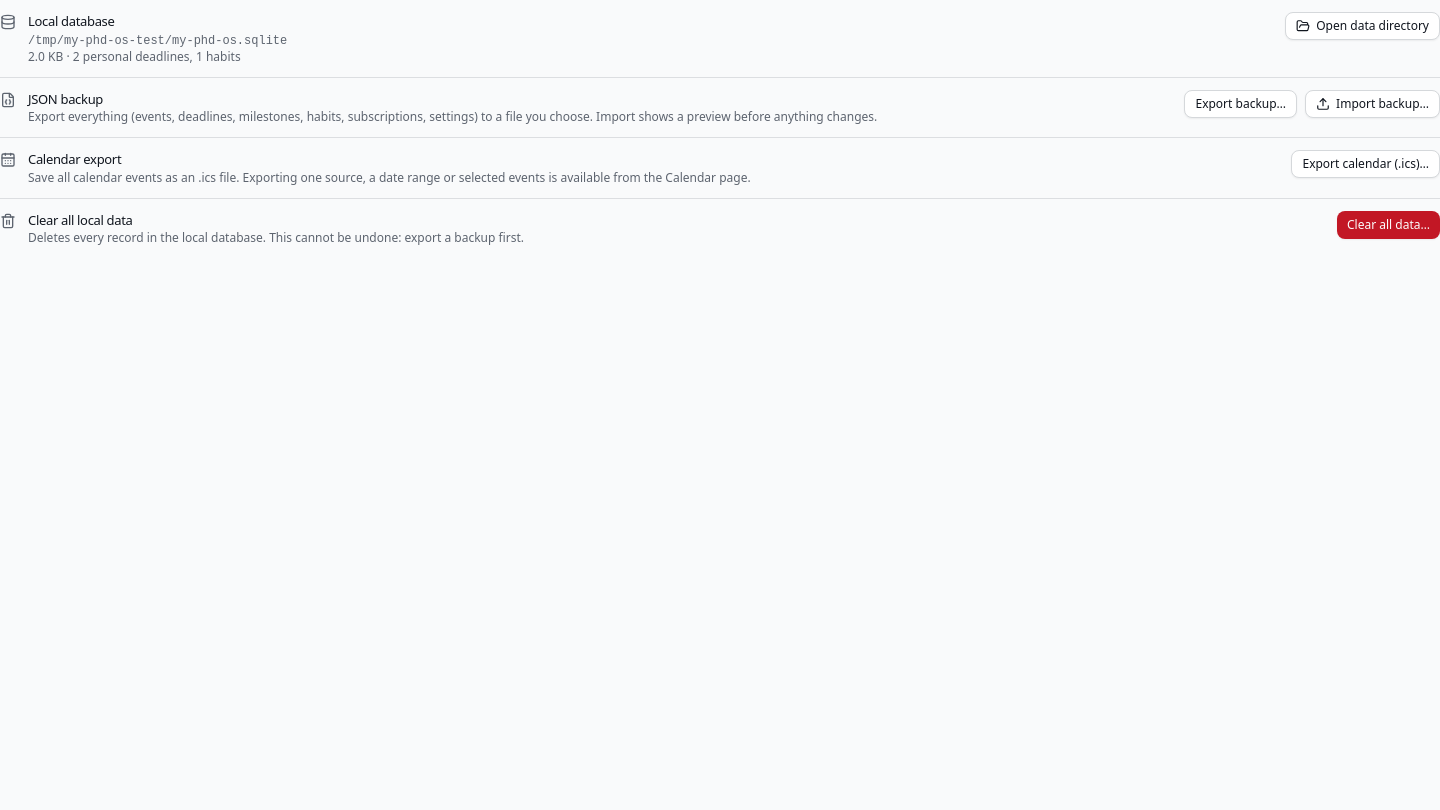
Test case: DataSection › previews an import, shows its contents and warnings, then commits with the chosen mode
The width and height of the screenshot is (1440, 810).
What coordinates should you click on to do the following:
click the button "Import backup…"
I would click on:
 (1373, 104)
Its box is [1305,90,1439,118].
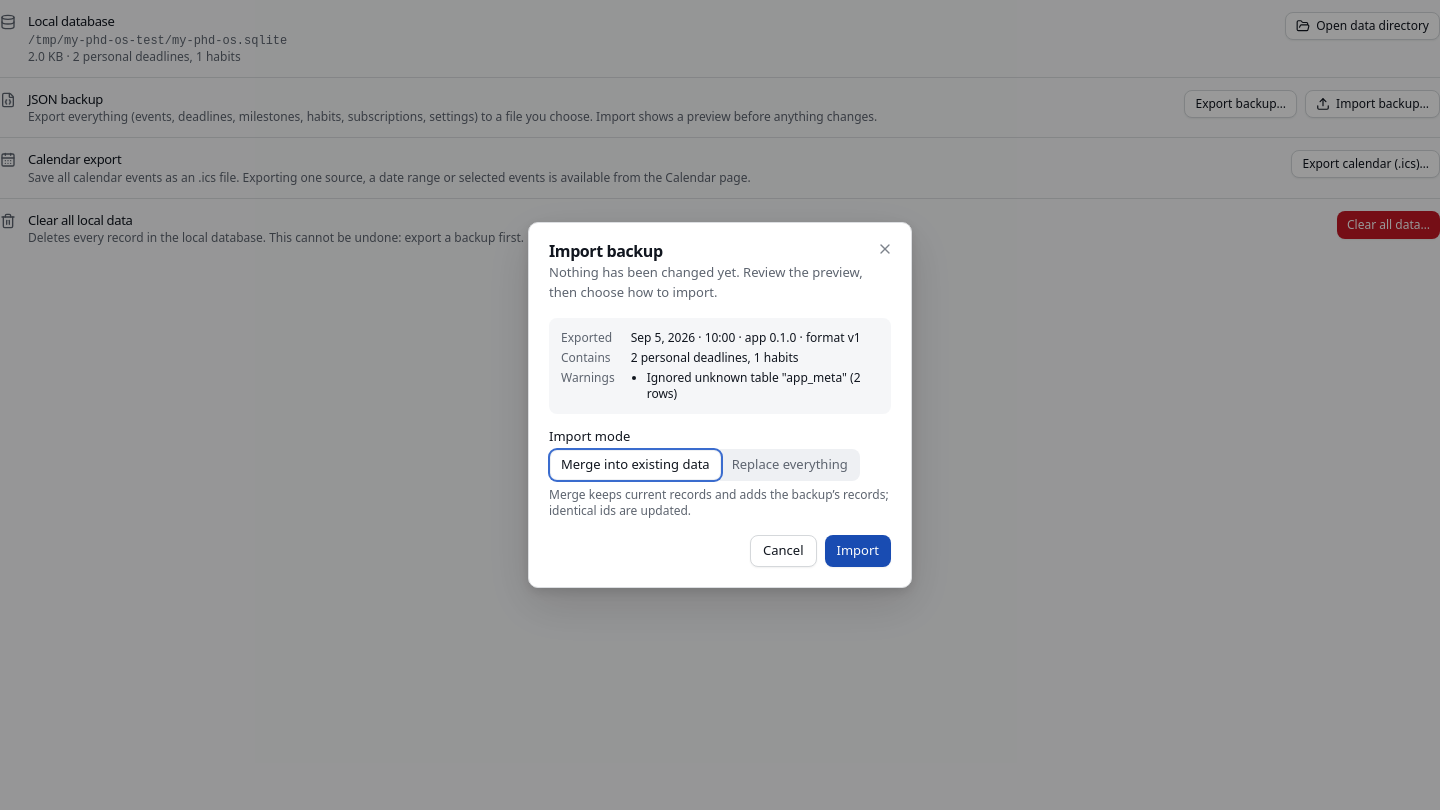
Expected: the text with test id "import-contains" reads "2 personal deadlines, 1 habits", [631,349,799,366]
Expected: the list item "Ignored unknown table \"app_meta\" (2 rows)" is shown, [647,370,879,402]
What coordinates should you click on to do the following:
click the radio button labelled "Replace everything"
I would click on:
 (790, 465)
Its box is [722,451,858,479].
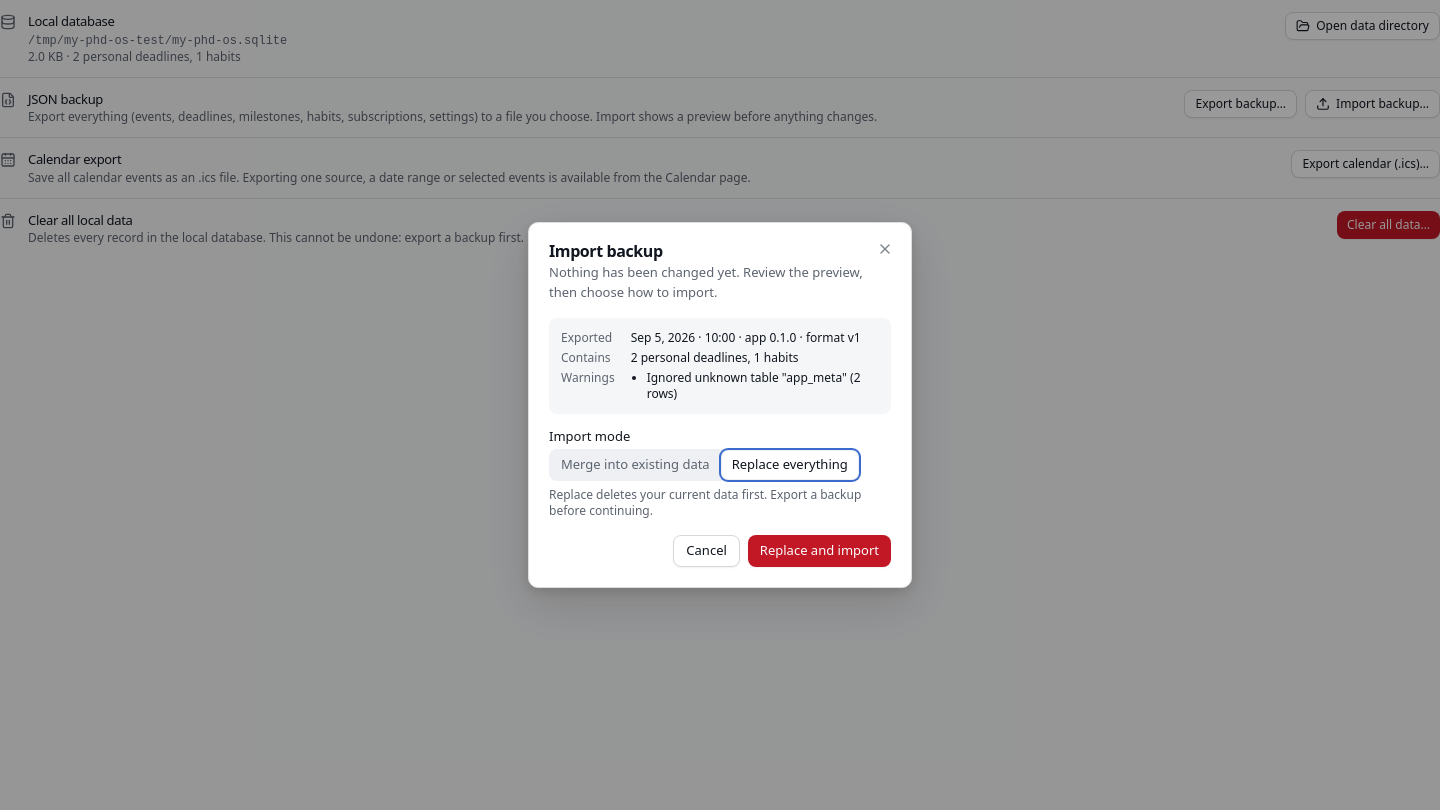
What coordinates should you click on to do the following:
click the button "Replace and import"
I would click on:
 (819, 551)
Its box is [748,535,891,567].
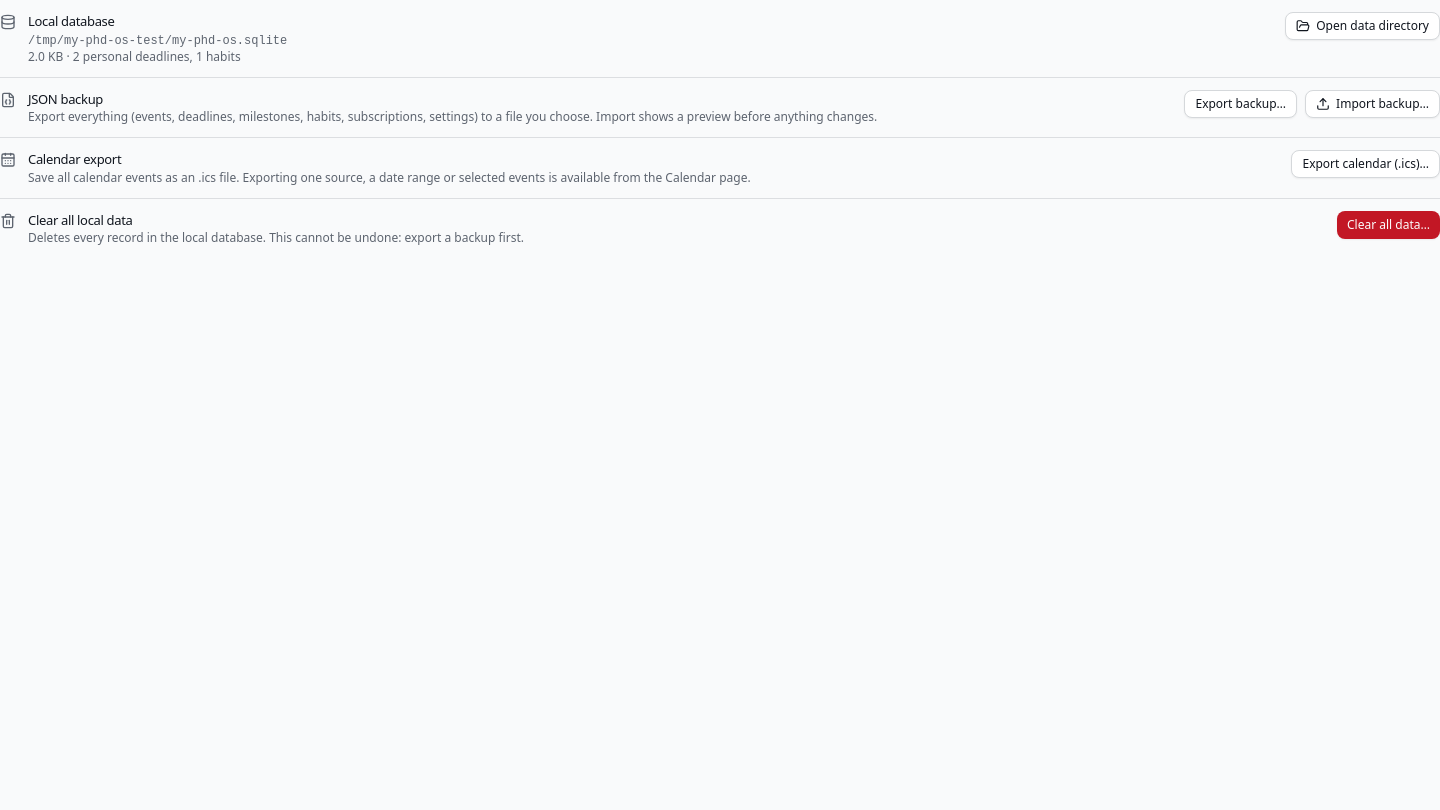
Expected: the dialog is gone
